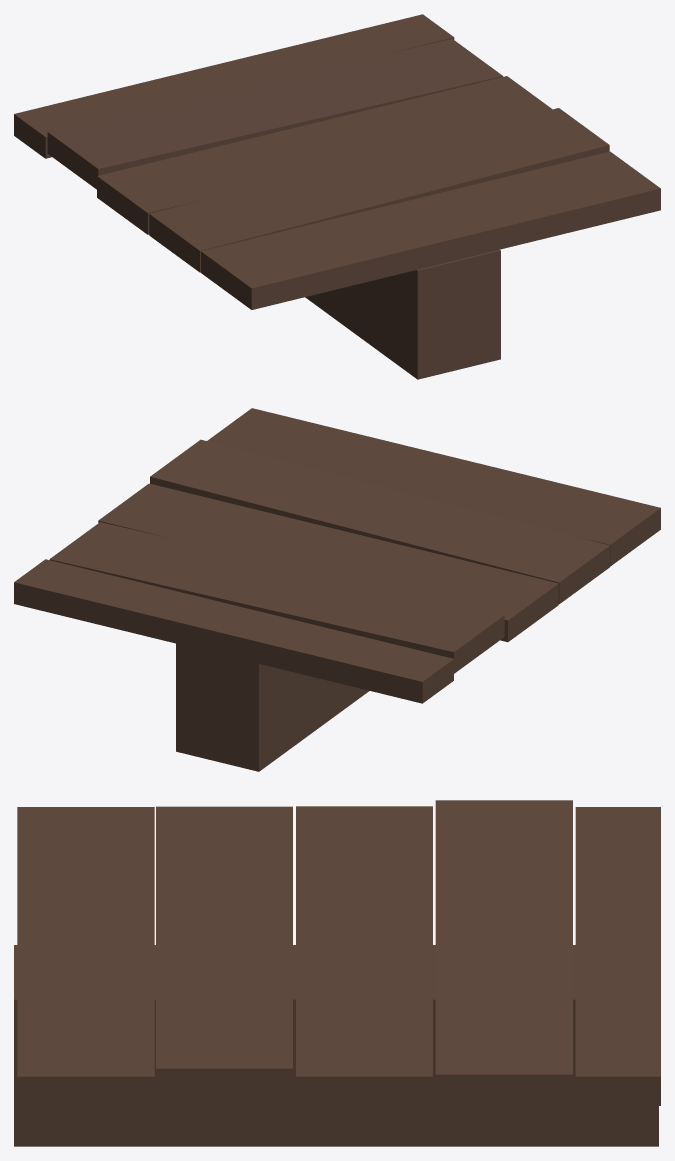
3 views of the same model, one above another, from view 1: azimuth 30°, elevation 25°; view 2: azimuth 150°, elevation 25°; view 3: azimuth 270°, elevation 25° (orthographic). The views are drawn at different scales.
Visible parts, largest first — view 1: floor_1x1; view 2: floor_1x1; view 3: floor_1x1.
Boxes of the visible parts, left/top/right/bottom form: floor_1x1: left=14, top=14, right=660, bottom=379; floor_1x1: left=14, top=408, right=660, bottom=771; floor_1x1: left=14, top=800, right=660, bottom=1146.
Bounding box in the file's own units: 0.9859 × 0.3139 × 0.9969.
